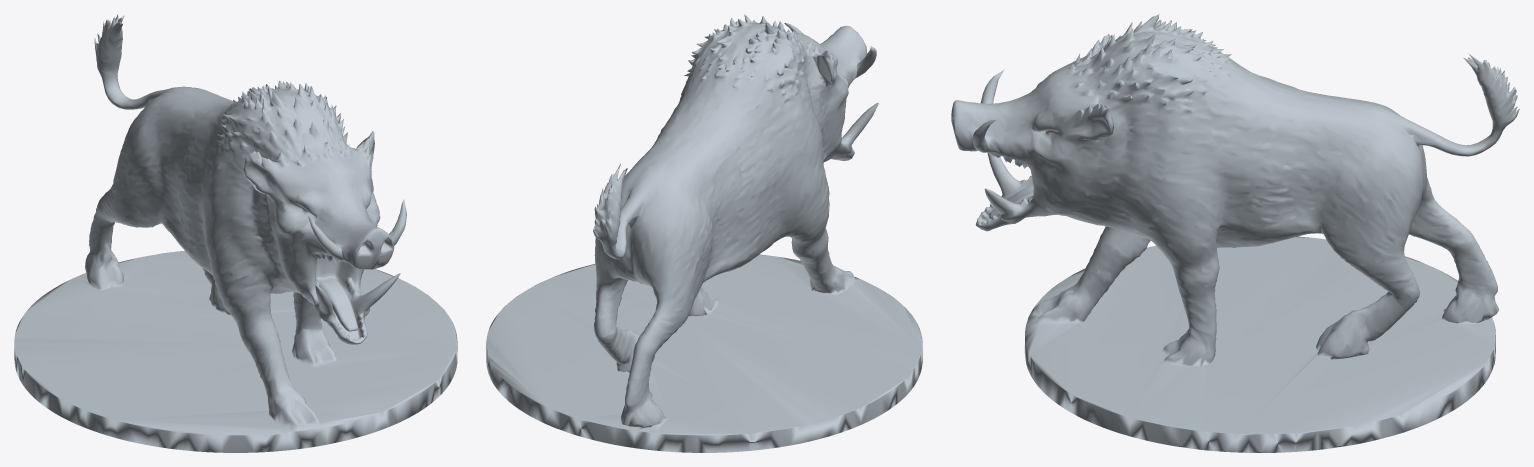
File: giant-boar.glb
3 views of the same model, side by side, from view 1: azimuth 30°, elevation 25°; view 2: azimuth 150°, elevation 25°; view 3: azimuth 270°, elevation 25° (orthographic). The views are drawn at different scales.
Parts seen in each view (by area): view 1: Giant_Boar_Updated.001; view 2: Giant_Boar_Updated.001; view 3: Giant_Boar_Updated.001.
Boxes of the visible parts, bbox=[...] form: Giant_Boar_Updated.001: bbox=[14, 14, 457, 452]; Giant_Boar_Updated.001: bbox=[486, 14, 922, 452]; Giant_Boar_Updated.001: bbox=[951, 14, 1519, 452].
Bounding box in the file's own units: 50.5 × 39.26 × 60.95.
1 material, 1 textured.
